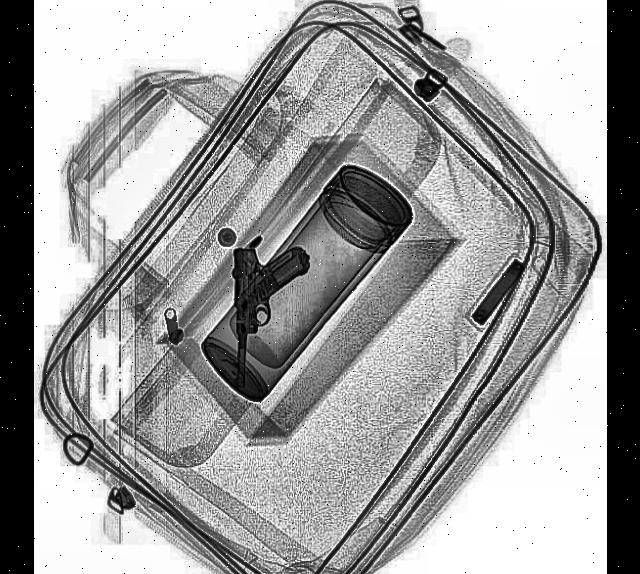Gun: (232, 246, 310, 392)
